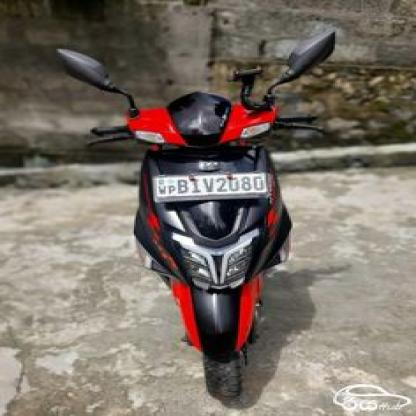bike front: (53, 28, 340, 410)
number plate: (151, 172, 268, 194)
